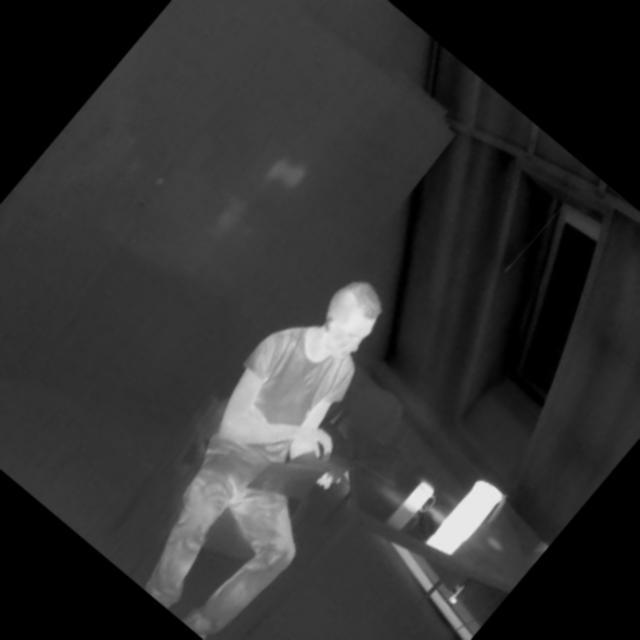person: (88, 249, 463, 640)
